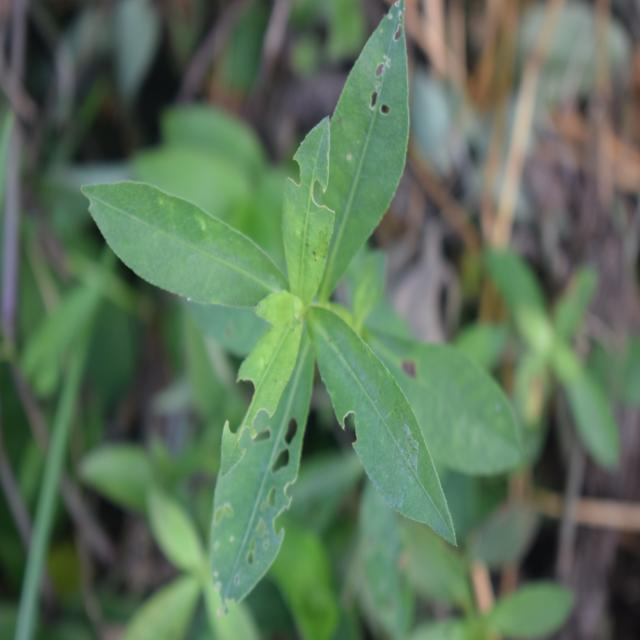Alligatorweed: (78, 68, 489, 561)
